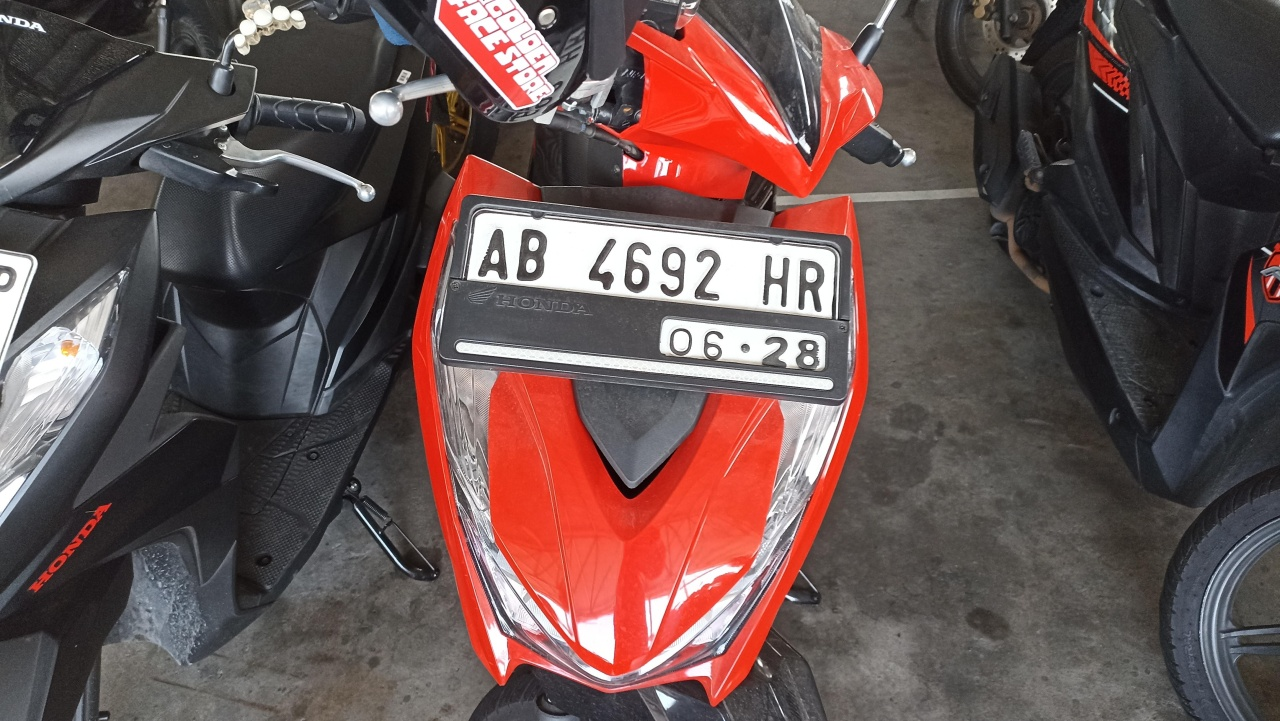plate: (439, 197, 849, 400)
